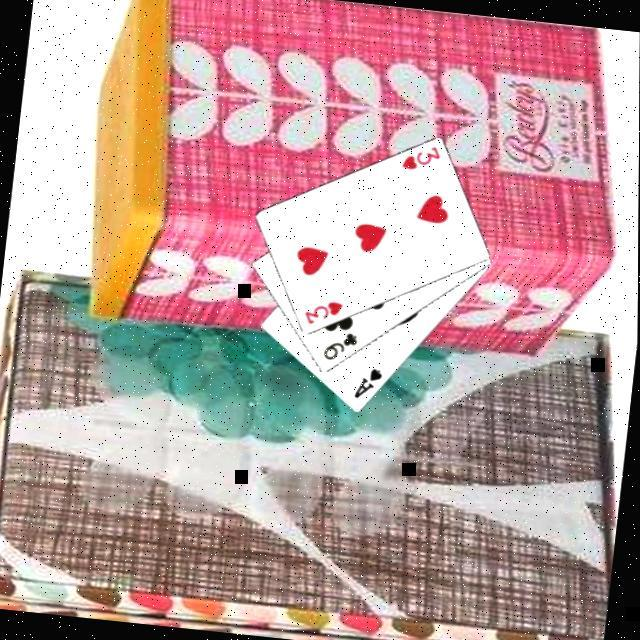3H: (396, 141, 442, 177), (297, 296, 343, 331)
9C: (317, 328, 358, 368)
AS: (348, 366, 384, 404)
